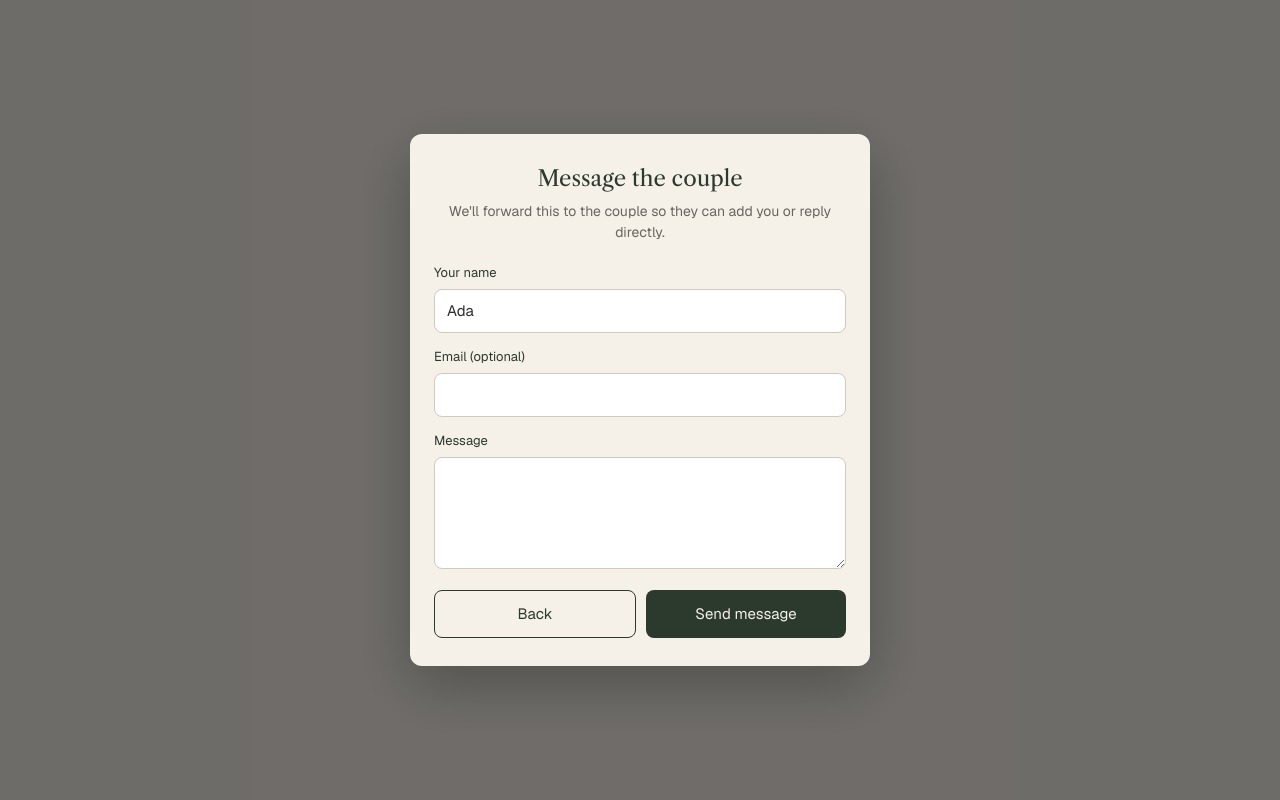
Test case: <MessageCoupleModal /> › shows a generic error when the server returns a non-JSON body
In the text box labelled "Message": (640, 512) [434,456,846,568], type "hi"
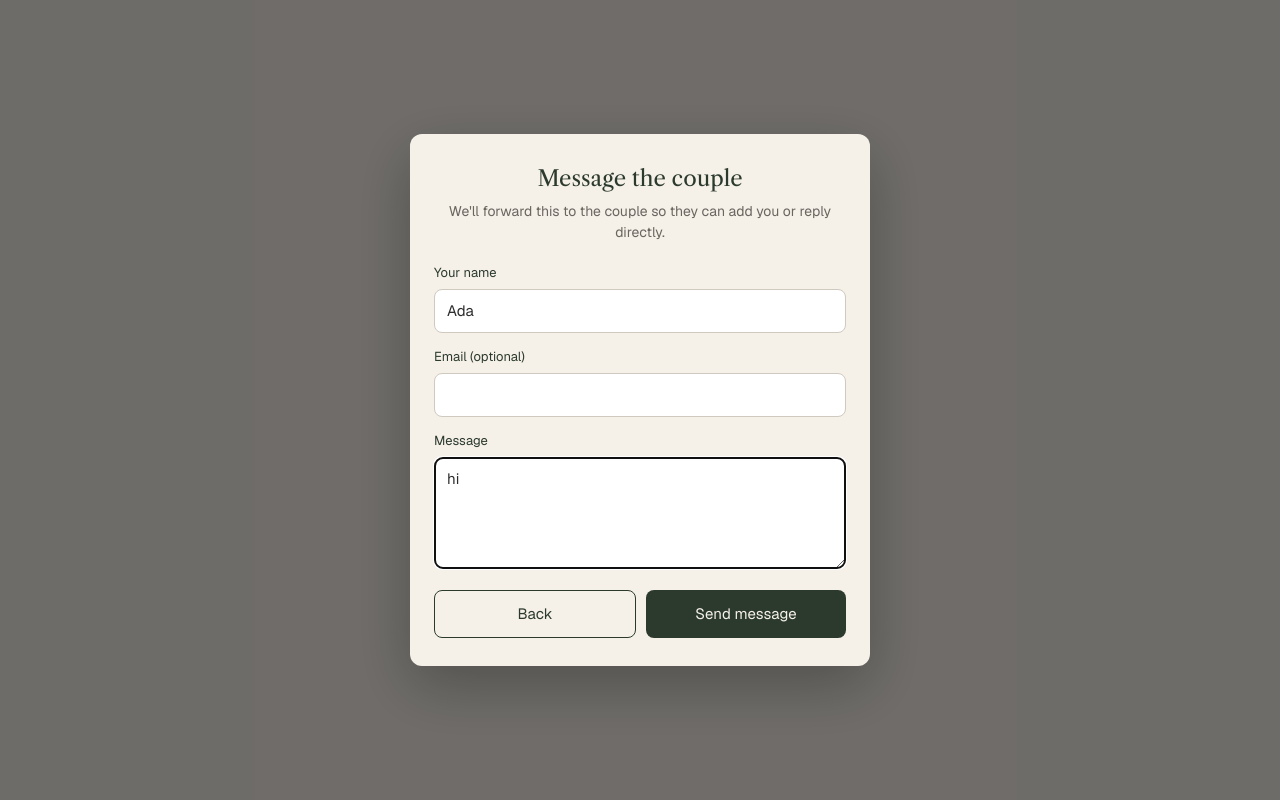
Click the button "Send message": (746, 614) [646,590,846,638]
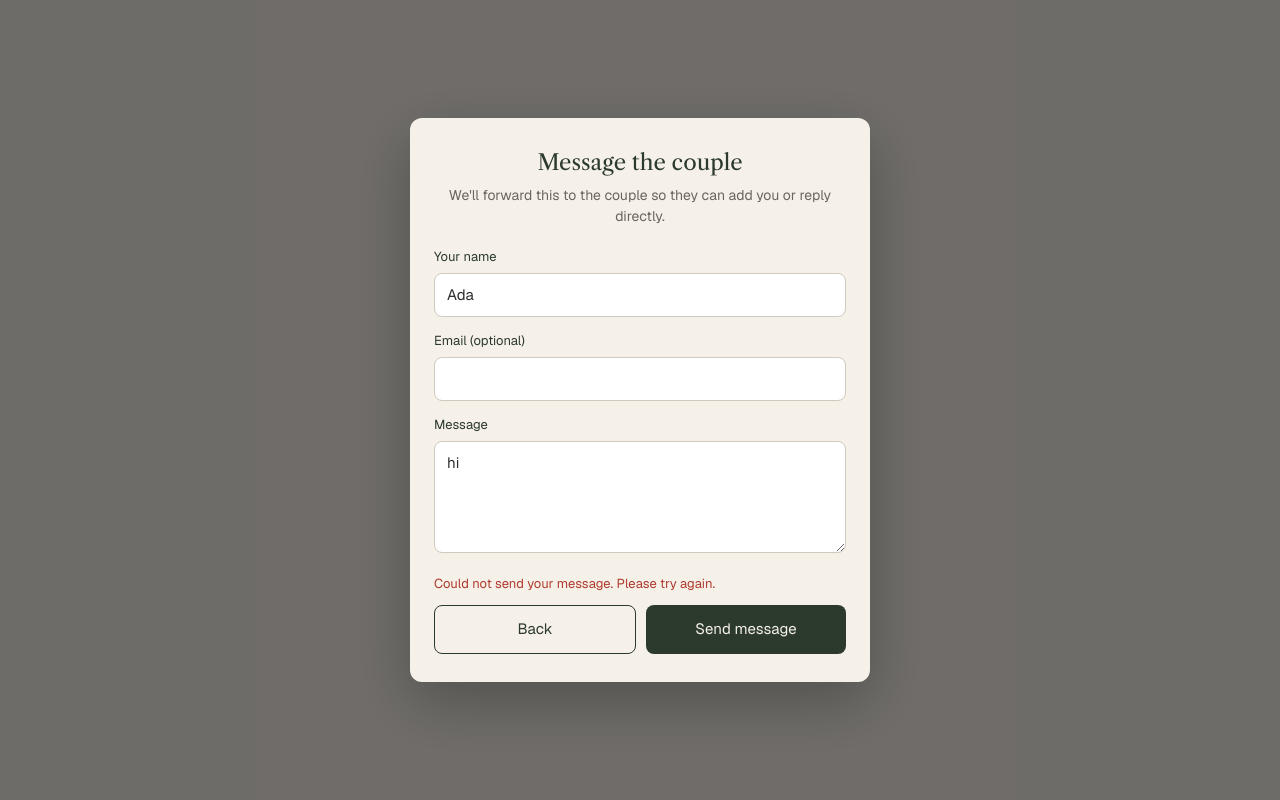
Now the message shows "Could not send", box [434,575,715,592]
